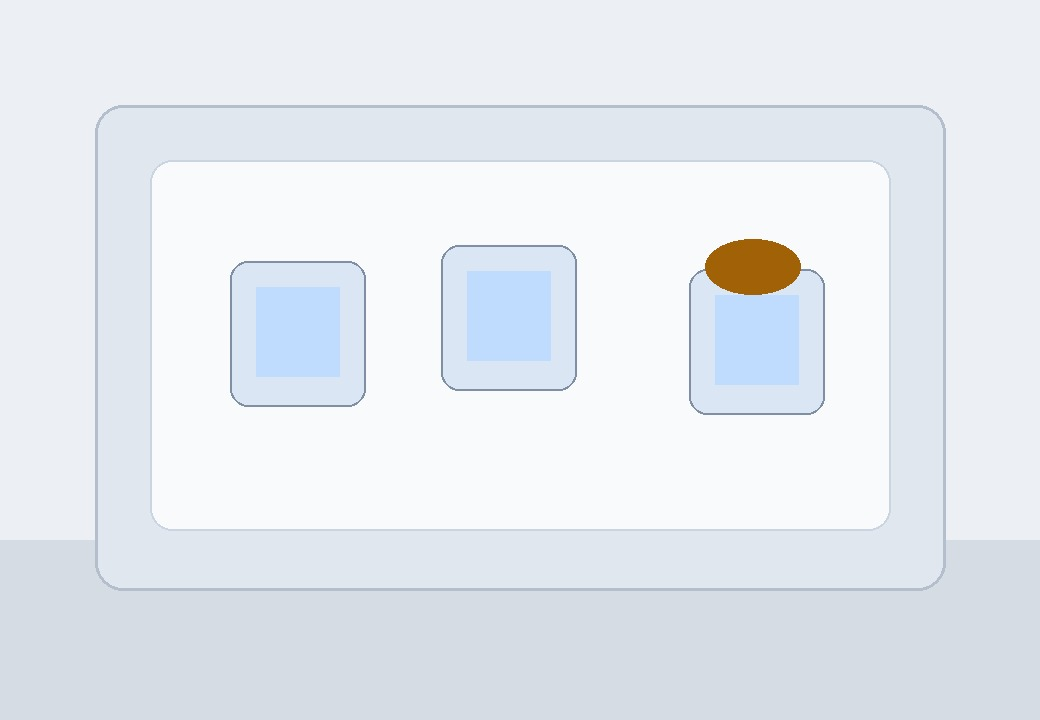dent: (500, 310, 585, 366)
ok_region: (261, 260, 391, 390)
scratch: (320, 285, 430, 330)
stain: (676, 245, 771, 307)
